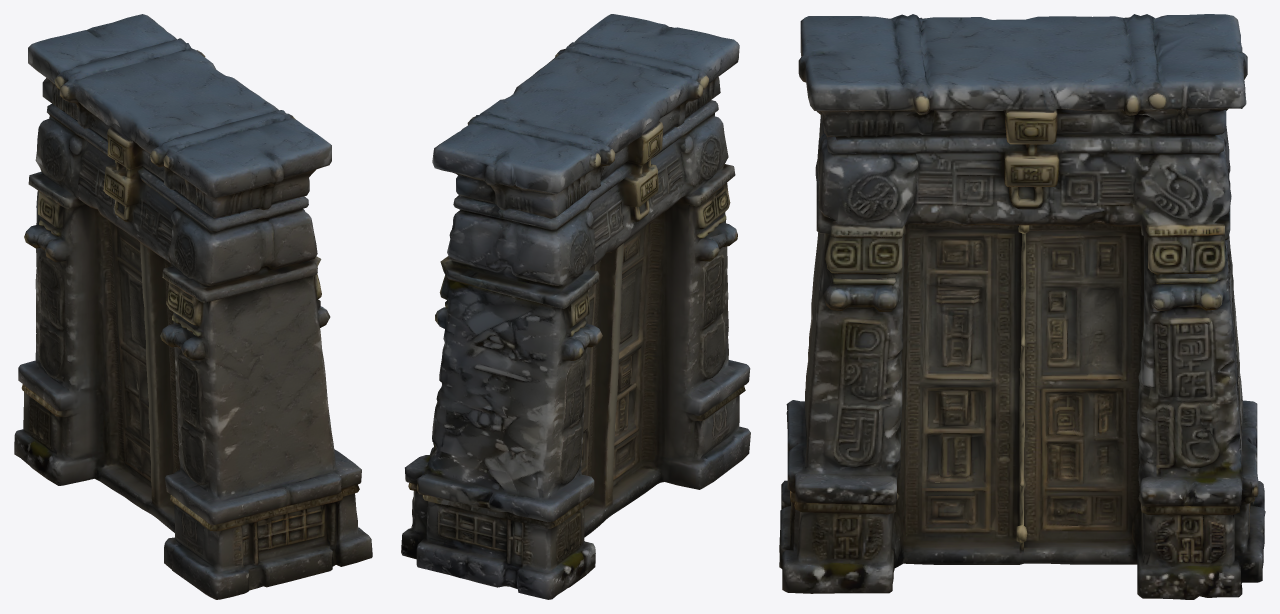
The model's file is ch2_inscribed_vaelor_gate.glb.
3 views of the same model, side by side, from view 1: azimuth 30°, elevation 25°; view 2: azimuth 150°, elevation 25°; view 3: azimuth 270°, elevation 25° (orthographic). The views are drawn at different scales.
Parts seen in each view (by area): view 1: tripo_node_77248afa-edcf-4560-a30d-d174774ffb73; view 2: tripo_node_77248afa-edcf-4560-a30d-d174774ffb73; view 3: tripo_node_77248afa-edcf-4560-a30d-d174774ffb73.
Boxes of the visible parts, x1,y1,x2,y2 form: tripo_node_77248afa-edcf-4560-a30d-d174774ffb73: [14, 14, 372, 599]; tripo_node_77248afa-edcf-4560-a30d-d174774ffb73: [401, 14, 750, 599]; tripo_node_77248afa-edcf-4560-a30d-d174774ffb73: [779, 14, 1265, 599].
Bounding box in the file's own units: 0.4316 × 0.998 × 0.8887.
Materials: 1 (1 with a texture image).
